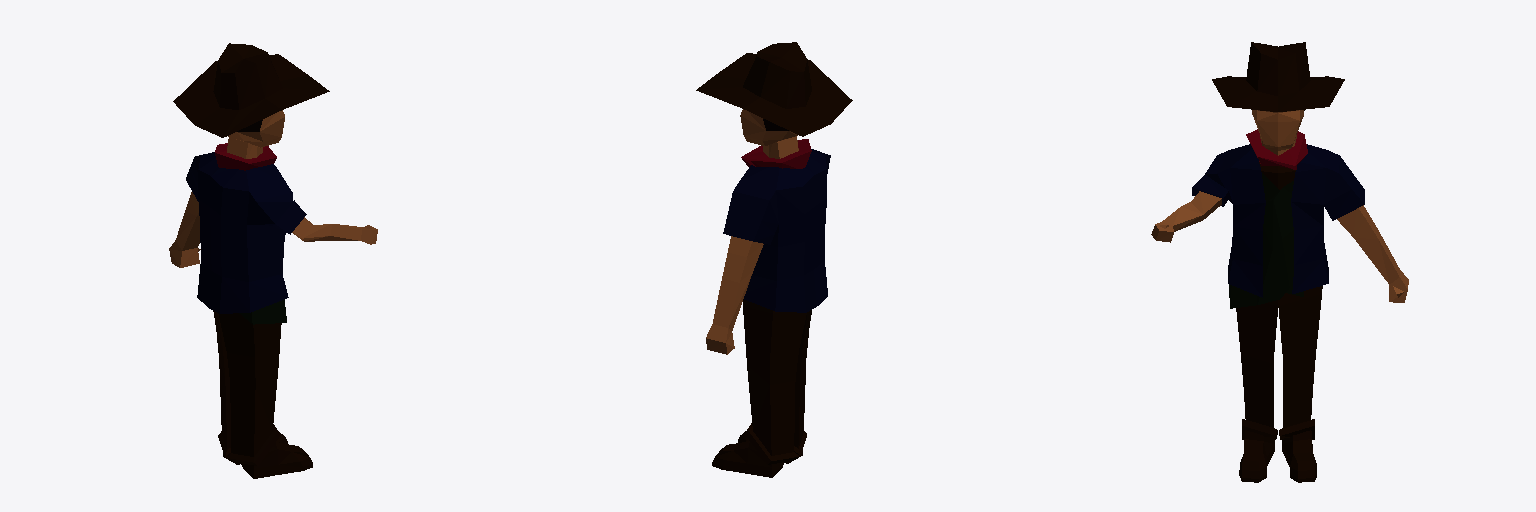
File: flint.obj
The picture shows the model from 3 angles: view 1: azimuth 30°, elevation 25°; view 2: azimuth 150°, elevation 25°; view 3: azimuth 270°, elevation 25°; orthographic projection.
Parts seen in each view (by area): view 1: Cube; view 2: Cube; view 3: Cube.
Boxes of the visible parts, x1,y1,x2,y2 form: Cube: [169, 43, 377, 478]; Cube: [696, 42, 852, 477]; Cube: [1151, 42, 1408, 482].
Bounding box in the file's own units: 0.5227 × 1.66 × 0.9401.